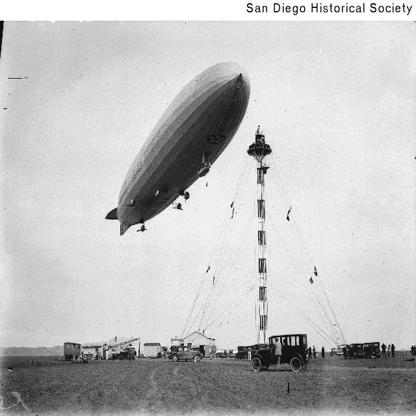Airship: (103, 60, 251, 244)
